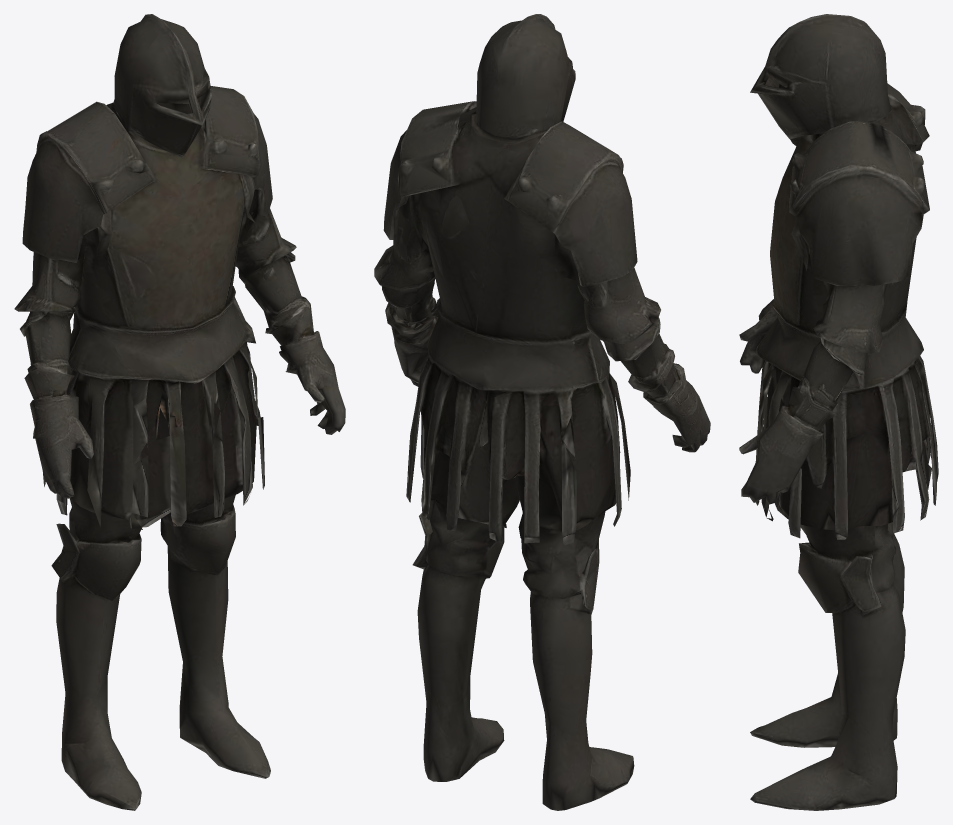
Rendered from plate.glb.
3 views of the same model, side by side, from view 1: azimuth 30°, elevation 25°; view 2: azimuth 150°, elevation 25°; view 3: azimuth 270°, elevation 25° (orthographic).
Visible parts, largest first — view 1: Mesh_0; view 2: Mesh_0; view 3: Mesh_0.
Part boxes in pixels (x1,y1,x2,y2): Mesh_0: (14,14,345,810); Mesh_0: (374,14,710,810); Mesh_0: (739,14,938,810).
Size of the model in its own units: 0.7825 by 1.89 by 0.4532.
Materials: 1 (1 with a texture image).
